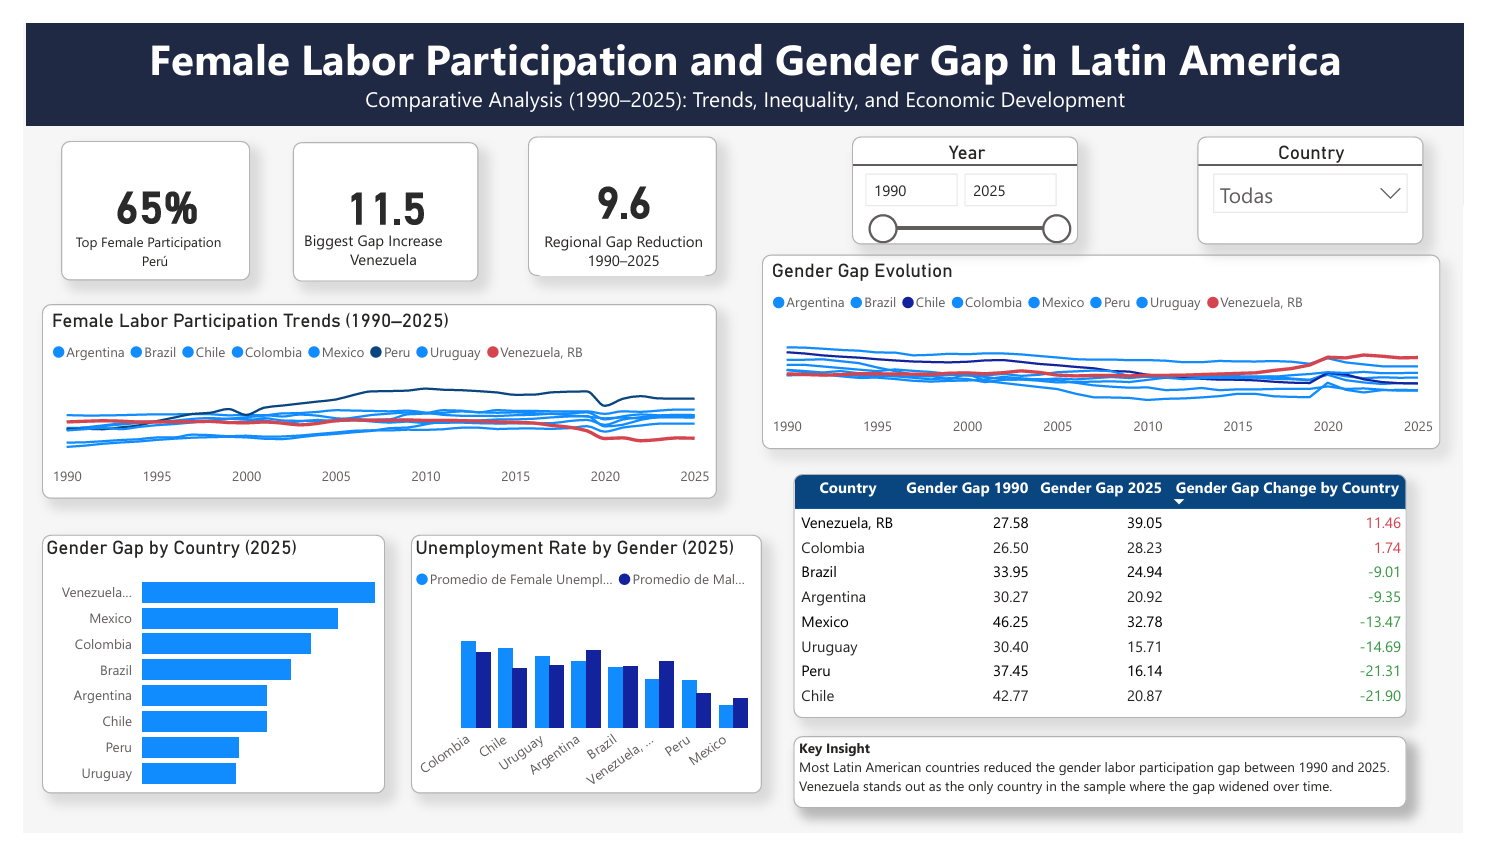

This screenshot's page, from the dashboard's own definition file:
{"tool":"powerbi","page":{"name":"Página 1","canvas":[1280,720],"ordinal":0},"visuals":[{"type":"lineChart","title":"Female Labor Participation Trends (1990–2025)","fields":{"Category":["female_labor_force csv.Year"],"Y":["Avg(female_labor_force csv.Female Labor Participation)"],"Series":["female_labor_force csv.Country"]},"box":[15.9,249.2,600,173],"z":0},{"type":"clusteredBarChart","title":"Gender Gap by Country (2025)","fields":{"Category":["female_labor_force csv.Country"],"Y":["Tabla.Gender Gap 2025"]},"box":[15.9,454,304.8,230.2],"z":1000},{"type":"lineChart","title":"Gender Gap Evolution","fields":{"Category":["female_labor_force csv.Year"],"Series":["female_labor_force csv.Country"],"Y":["Tabla.Gender Gap"]},"box":[655.6,204.8,603.2,173],"z":2000},{"type":"clusteredColumnChart","title":"Unemployment Rate by Gender (2025)","fields":{"Category":["female-Unemployment.Country"],"Y":["Avg(female-Unemployment.Female Unemployment)","Avg(male-Unemployment.Male Unemployment)"]},"box":[344.4,454,311.1,230.2],"z":3000},{"type":"slicer","title":"Country","fields":{"Values":["female_labor_force csv.Country"]},"box":[1042.7,100,201.3,96],"z":4000},{"type":"textbox","box":[1.8,0,1278.2,90.9],"z":5000},{"type":"slicer","title":"Year","fields":{"Values":["female_labor_force csv.Year"]},"box":[736,100,201.3,96],"z":6000},{"type":"card","fields":{"Values":["GDP_per_capita.Highest Female Participation %"]},"box":[33.3,104,168,124],"z":7000},{"type":"card","fields":{"Values":["Tabla.Regional Gender Gap Reduction 1990-2025 fijo"]},"box":[448,100,168,124],"z":8000},{"type":"card","fields":{"Values":["Tabla.Largest Increase in Gender Gap (Venezuela)"]},"box":[238.7,105.3,165.3,124],"z":9000},{"type":"tableEx","fields":{"Values":["female_labor_force csv.Country","Tabla.Gender Gap 1990","Tabla.Gender Gap 2025","Tabla.Gender Gap Change 1990-2025"]},"box":[684.1,400,544.4,217.5],"z":10000},{"type":"textbox","box":[46,184.1,141.3,41.3],"z":11000},{"type":"textbox","box":[684.1,633.3,544.4,63.5],"z":12000},{"type":"textbox","box":[454,182.5,155.6,41.3],"z":13000},{"type":"textbox","box":[249.2,182.5,141.3,41.3],"z":14000}]}

Visuals, with their boxes in screenshot pixels (x1, y1, x2, y2), scaled from the page's 1280x720 canvas onto the 1490x859 screenshot:
"Female Labor Participation Trends (1990–2025)" lineChart: (x1=19, y1=297, x2=717, y2=504)
"Gender Gap by Country (2025)" clusteredBarChart: (x1=19, y1=542, x2=373, y2=816)
"Gender Gap Evolution" lineChart: (x1=763, y1=244, x2=1465, y2=451)
"Unemployment Rate by Gender (2025)" clusteredColumnChart: (x1=401, y1=542, x2=763, y2=816)
"Country" slicer: (x1=1214, y1=119, x2=1448, y2=234)
textbox: (x1=2, y1=0, x2=1489, y2=108)
"Year" slicer: (x1=857, y1=119, x2=1091, y2=234)
card - GDP_per_capita.Highest Female Participation %: (x1=39, y1=124, x2=234, y2=272)
card - Tabla.Regional Gender Gap Reduction 1990-2025 fijo: (x1=522, y1=119, x2=717, y2=267)
card - Tabla.Largest Increase in Gender Gap (Venezuela): (x1=278, y1=126, x2=470, y2=274)
tableEx - female_labor_force csv.Country x Tabla.Gender Gap 1990: (x1=796, y1=477, x2=1430, y2=737)
textbox: (x1=54, y1=220, x2=218, y2=269)
textbox: (x1=796, y1=756, x2=1430, y2=831)
textbox: (x1=528, y1=218, x2=710, y2=267)
textbox: (x1=290, y1=218, x2=455, y2=267)
